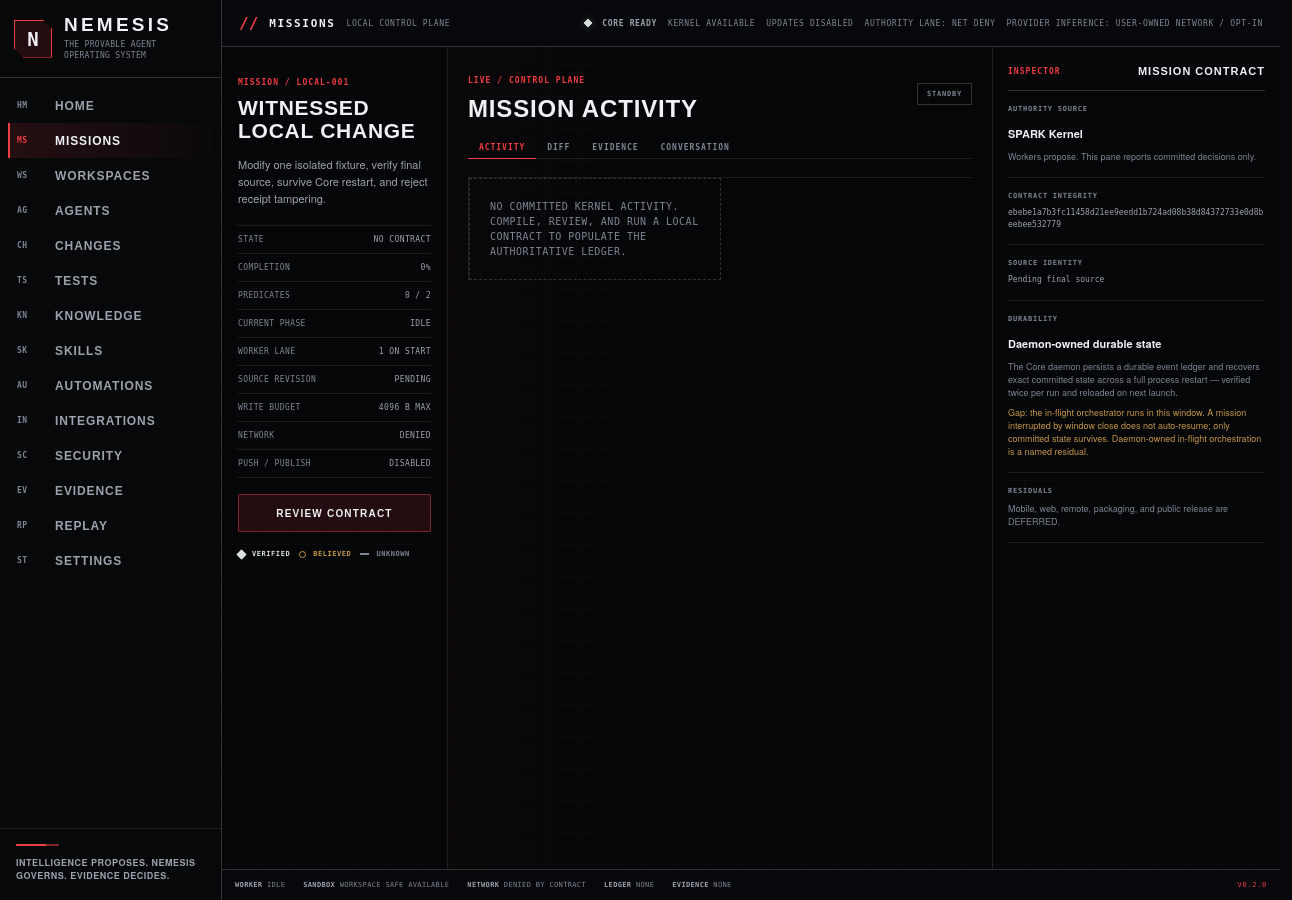
NEMESIS Desktop production surface › drafts an exact local contract without a terminal prerequisite
Step 1. Click the button "MS Missions" → (110, 140), box x1=8 y1=123 x2=213 y2=158
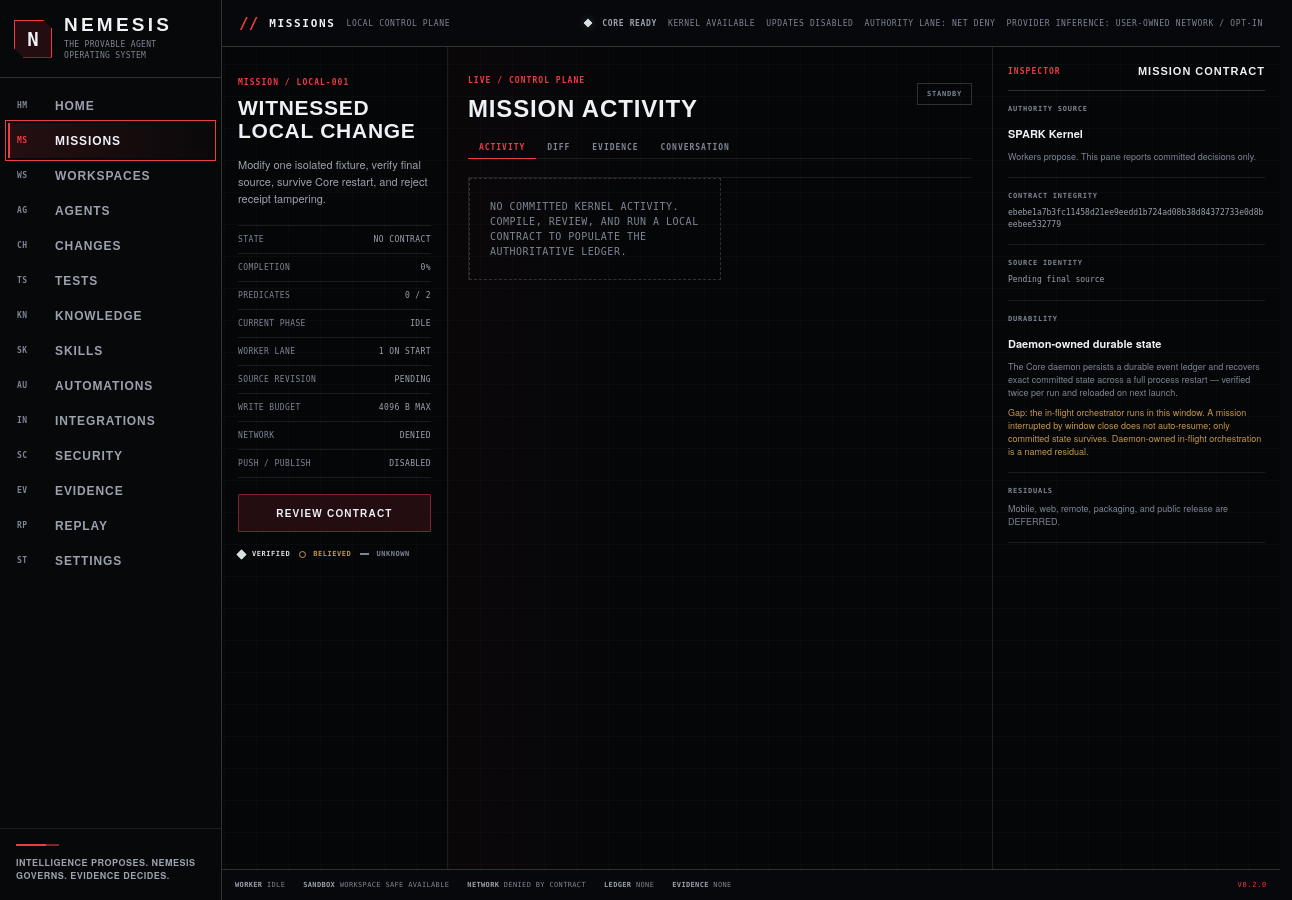
Step 2. Click the button "Review contract" → (334, 514), box x1=238 y1=494 x2=431 y2=532
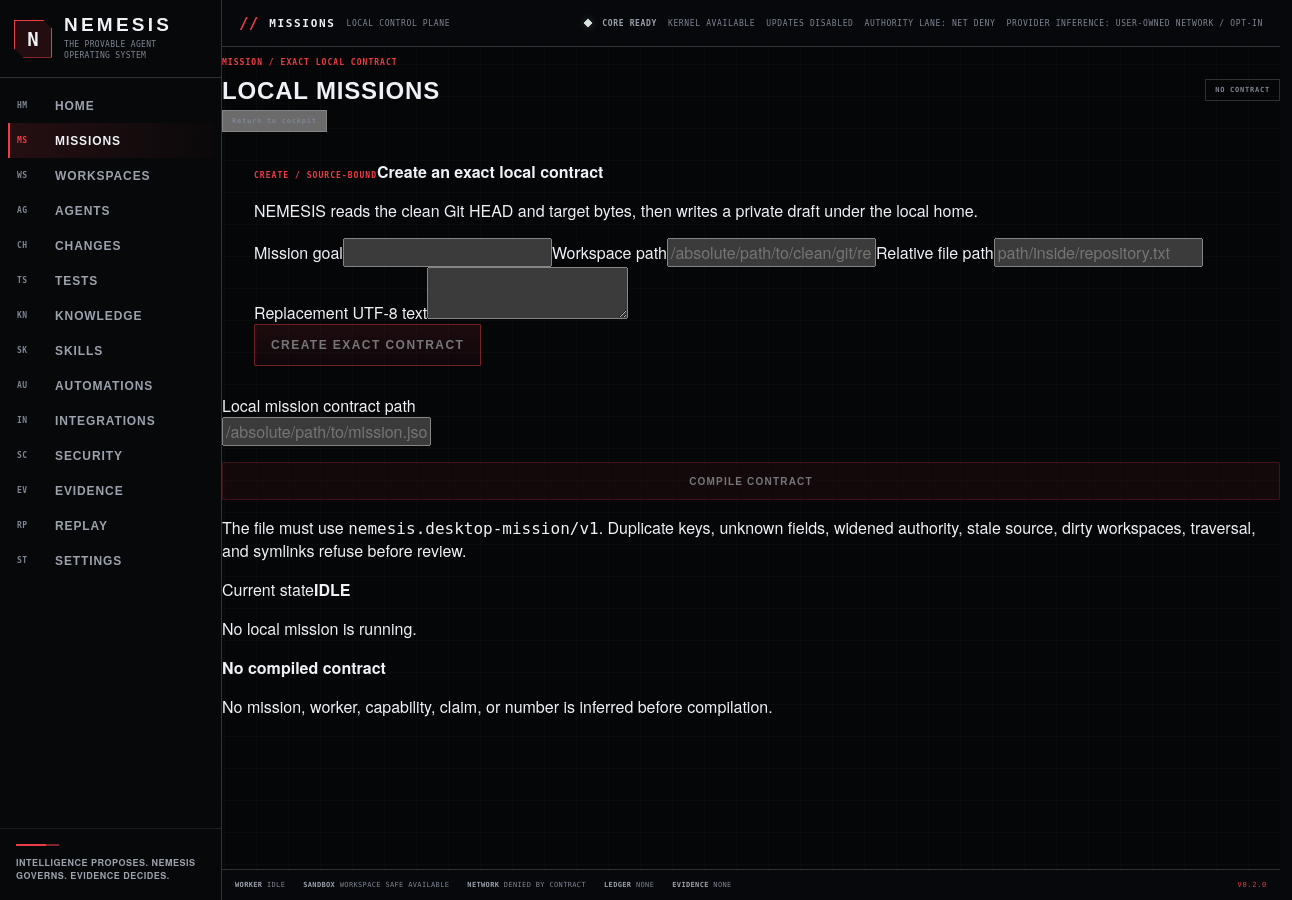
Step 3. Type "Replace the value" into the field labelled "Mission goal" → (447, 252), box x1=343 y1=238 x2=552 y2=267
Step 4. Type "/tmp/repository" into the field labelled "Workspace path" → (772, 252), box x1=667 y1=238 x2=876 y2=267
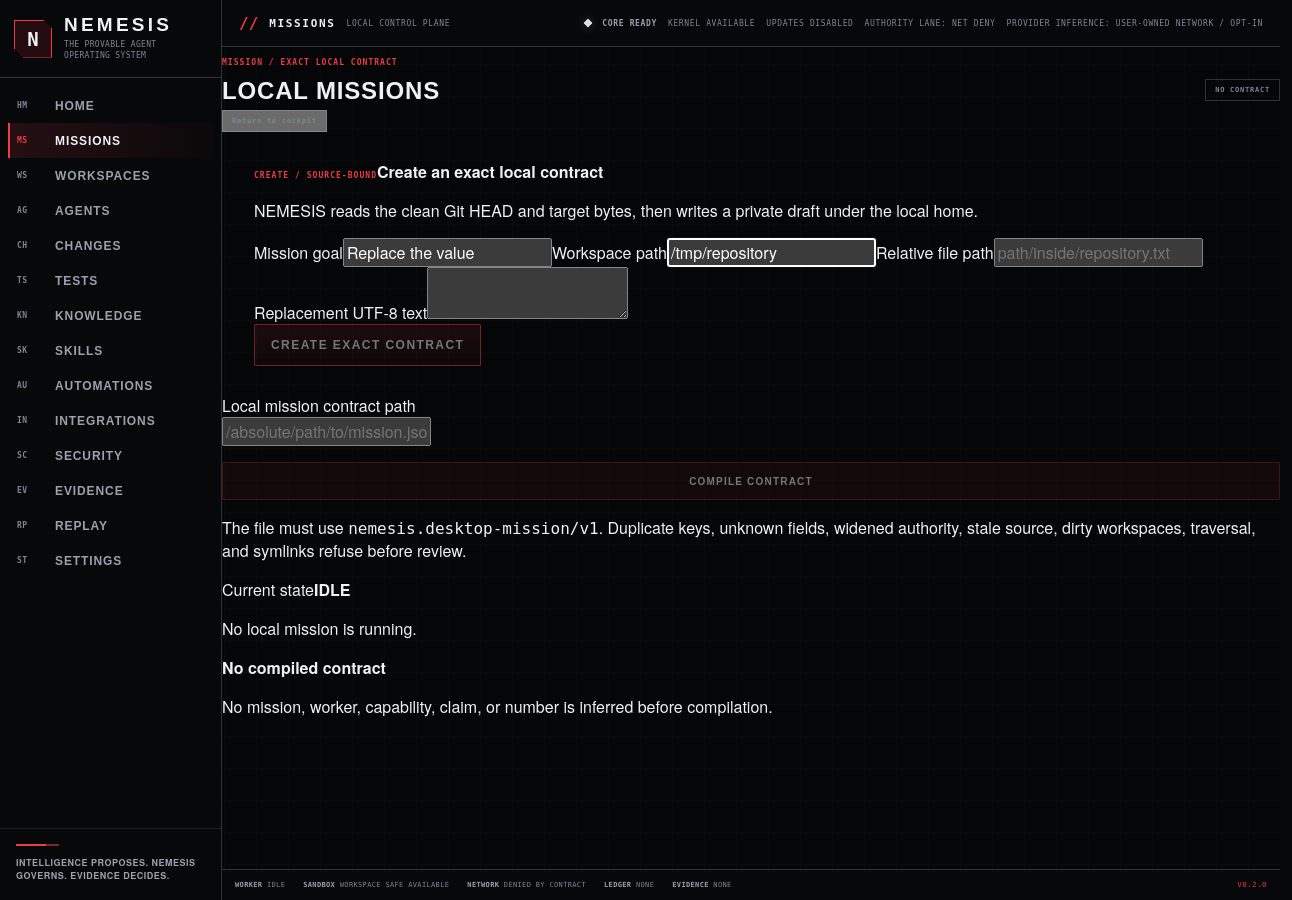
Step 5. Type "value.txt" into the field labelled "Relative file path" → (1098, 252), box x1=994 y1=238 x2=1203 y2=267
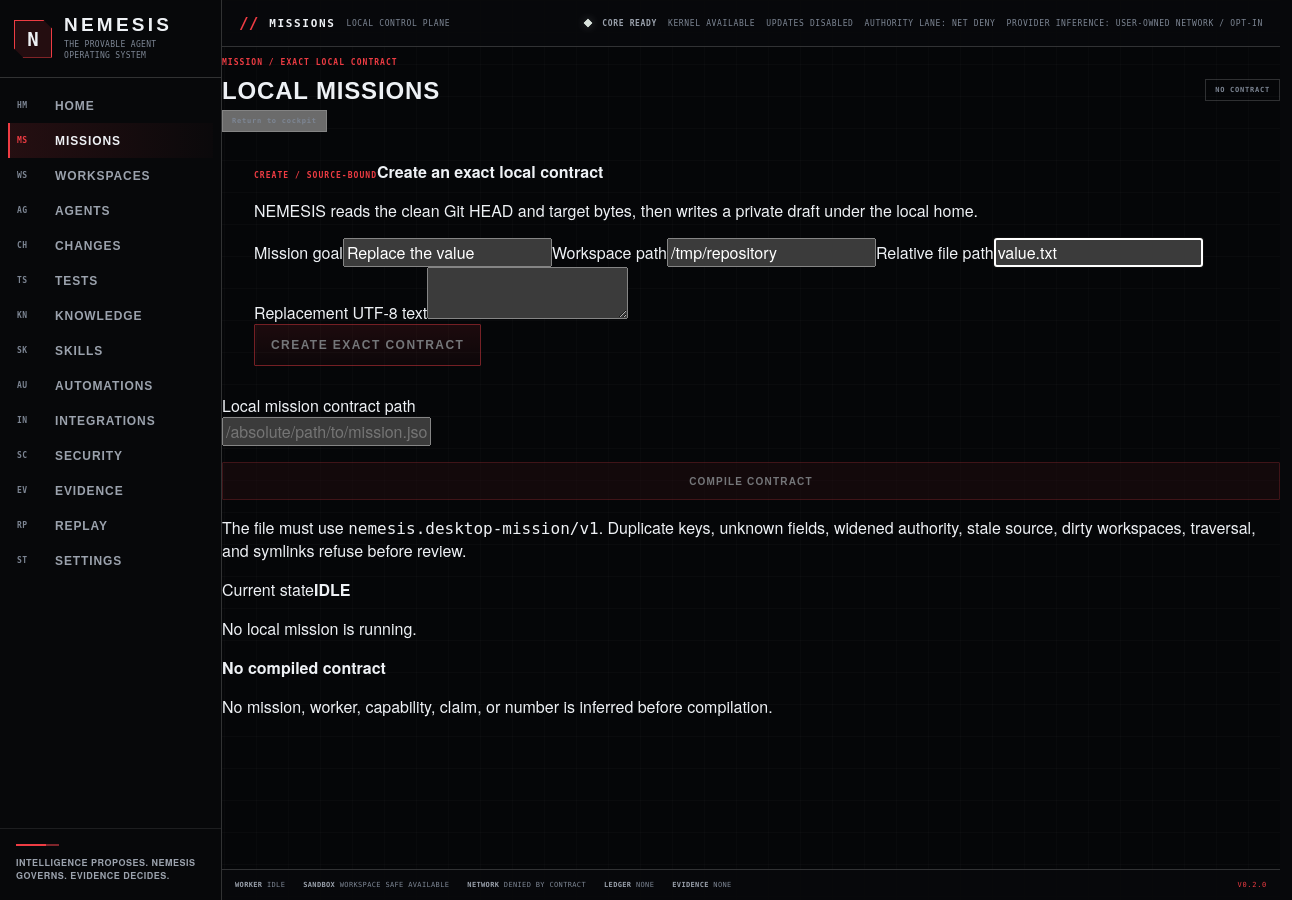
Step 6. Type "after" into the text box labelled "Replacement UTF-8 text" → (528, 293), box x1=427 y1=267 x2=628 y2=319
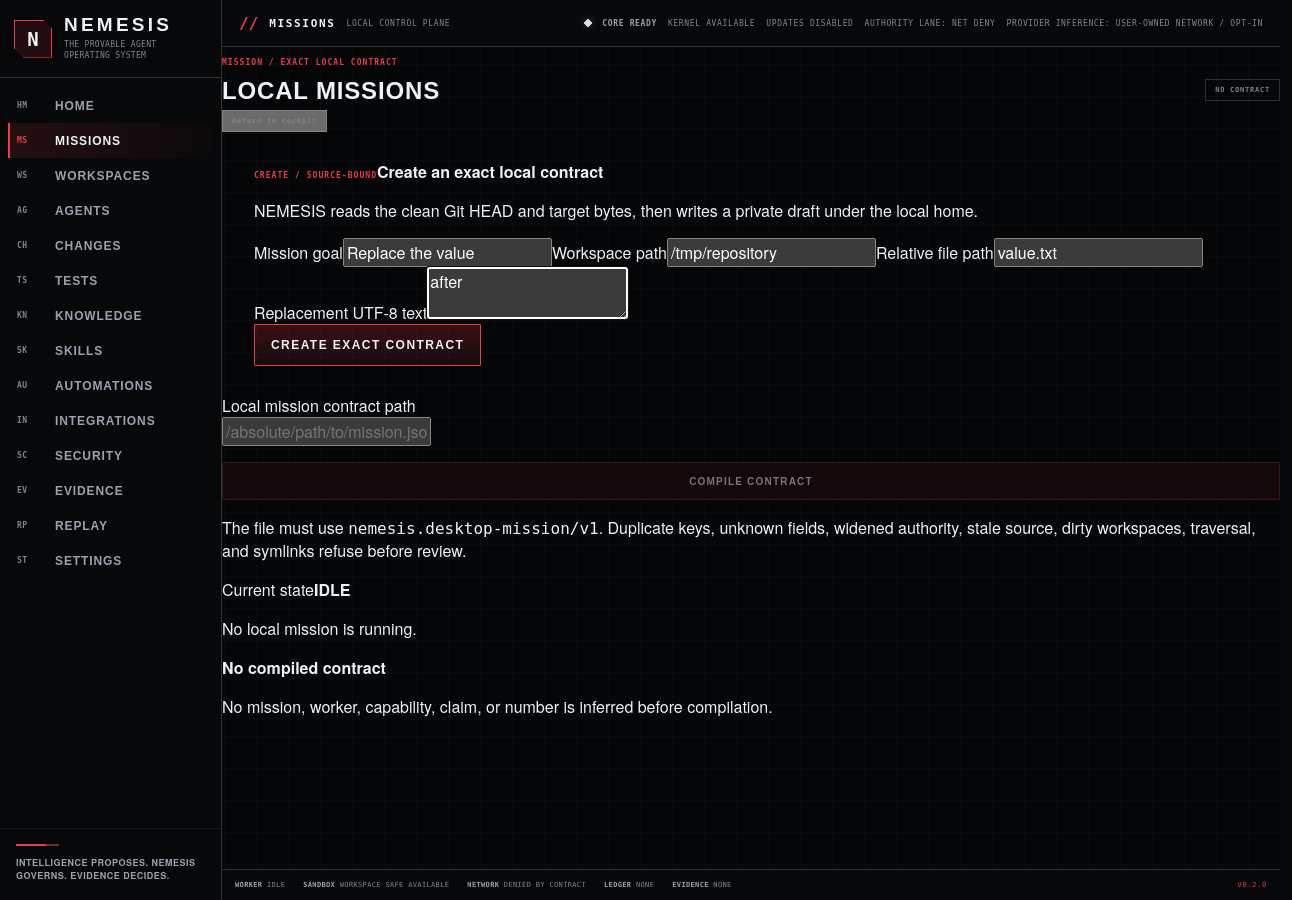
Step 7. Click the button "Create exact contract" → (368, 345), box x1=254 y1=324 x2=481 y2=366
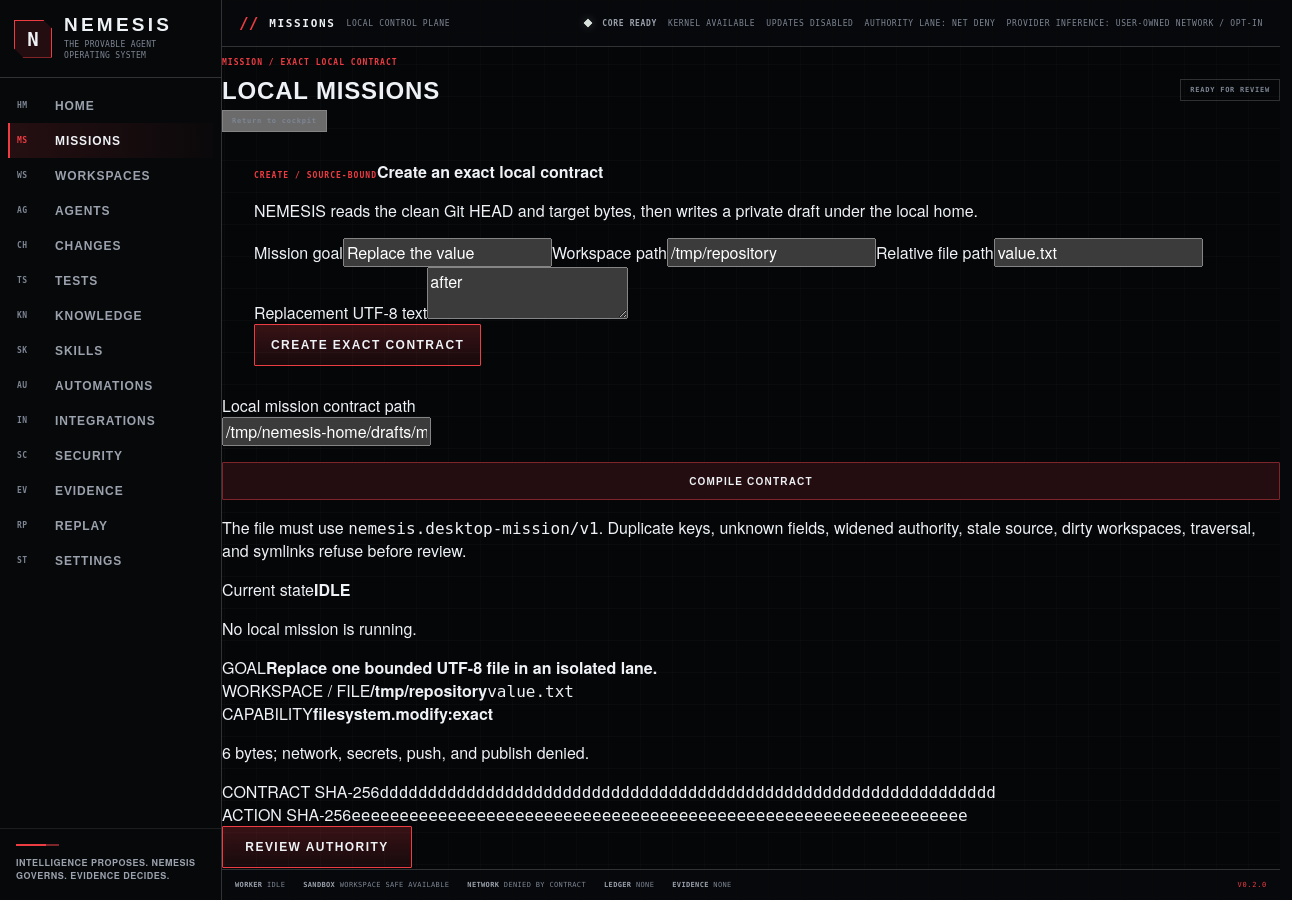
Now the field labelled "Local mission contract path" holds "/tmp/nemesis-home/drafts/mission.json", box x1=222 y1=417 x2=431 y2=446
